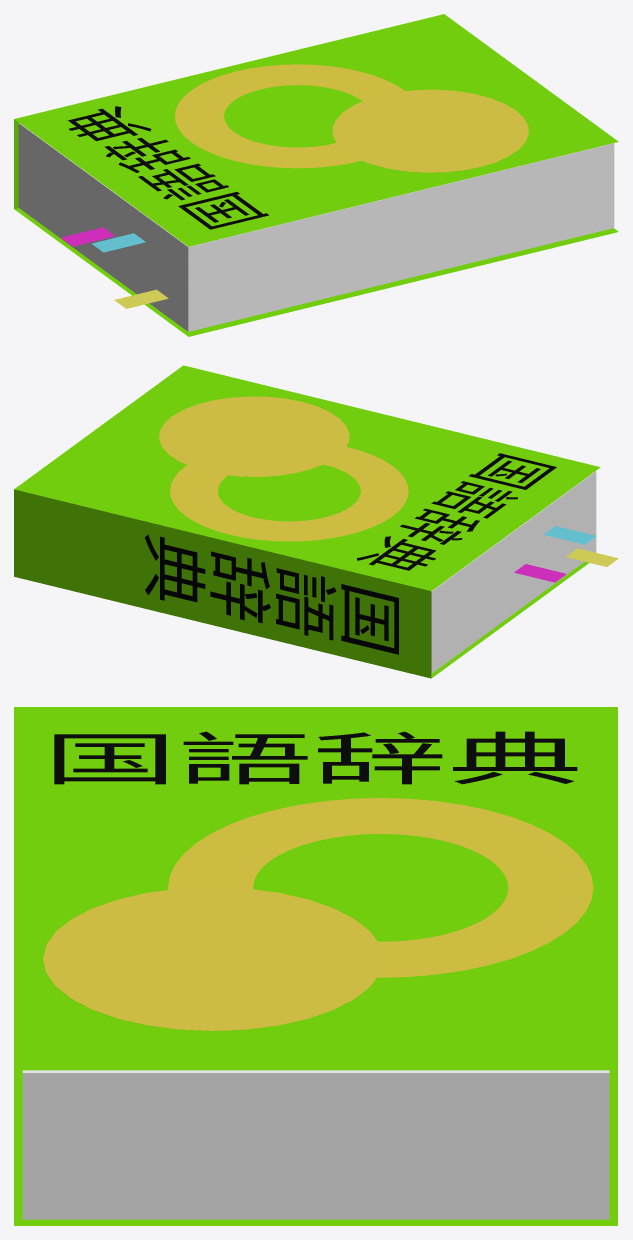
Rendered from dictionary.fbx.
3 views of the same model, one above another, from view 1: azimuth 30°, elevation 25°; view 2: azimuth 150°, elevation 25°; view 3: azimuth 270°, elevation 25° (orthographic). The views are drawn at different scales.
Visible parts, largest first — view 1: 平面.002; view 2: 平面.002; view 3: 平面.002.
Boxes of the visible parts, x1,y1,x2,y2 form: 平面.002: (14, 14, 618, 336); 平面.002: (14, 365, 618, 678); 平面.002: (14, 707, 617, 1225).
Size of the model in its own units: 1105 by 203 by 711.
